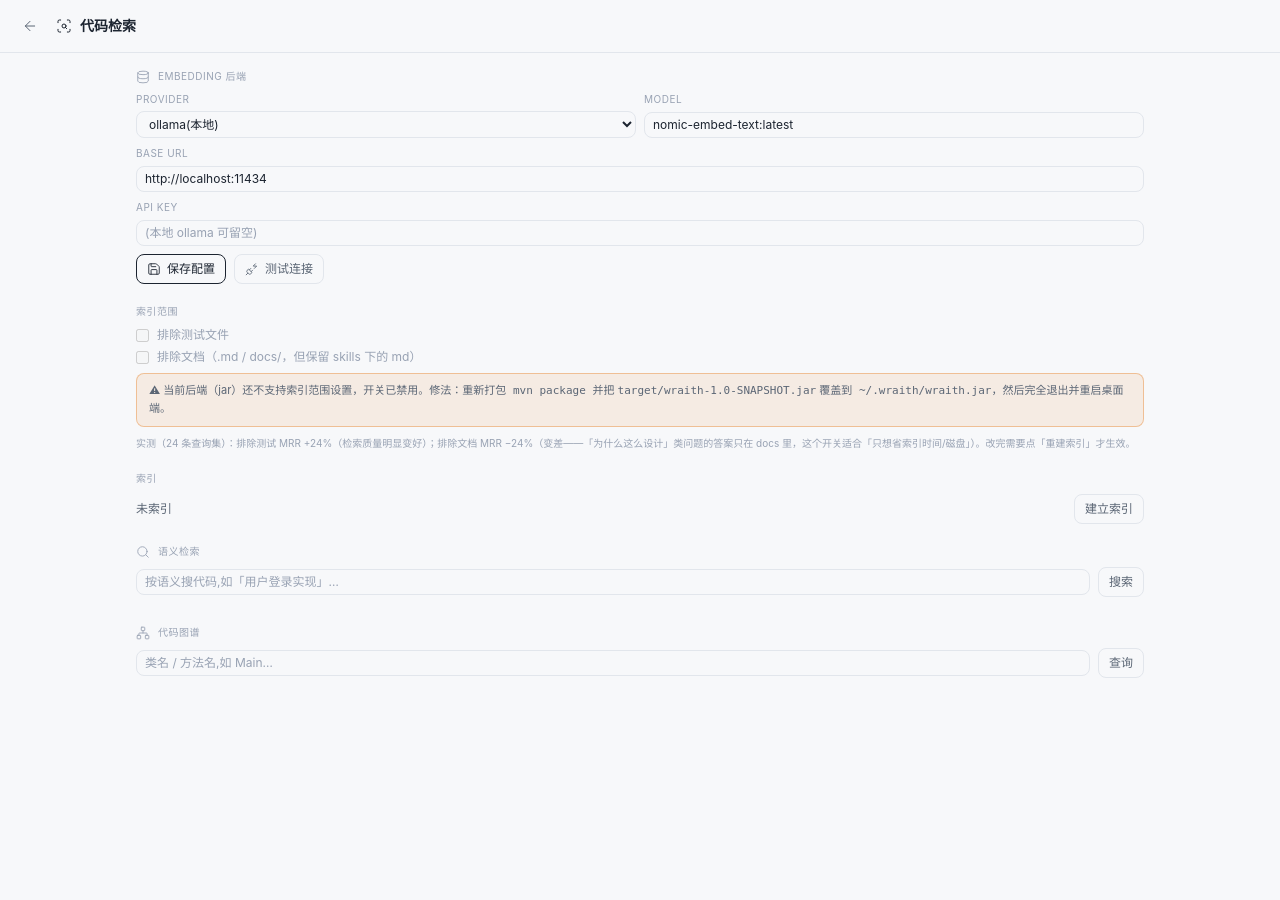
Scenario: RagPanel 测试连接 › 成功:摊出维度与耗时
Click the button "测试连接" at {"x": 279, "y": 269}, box [234,254,324,284]
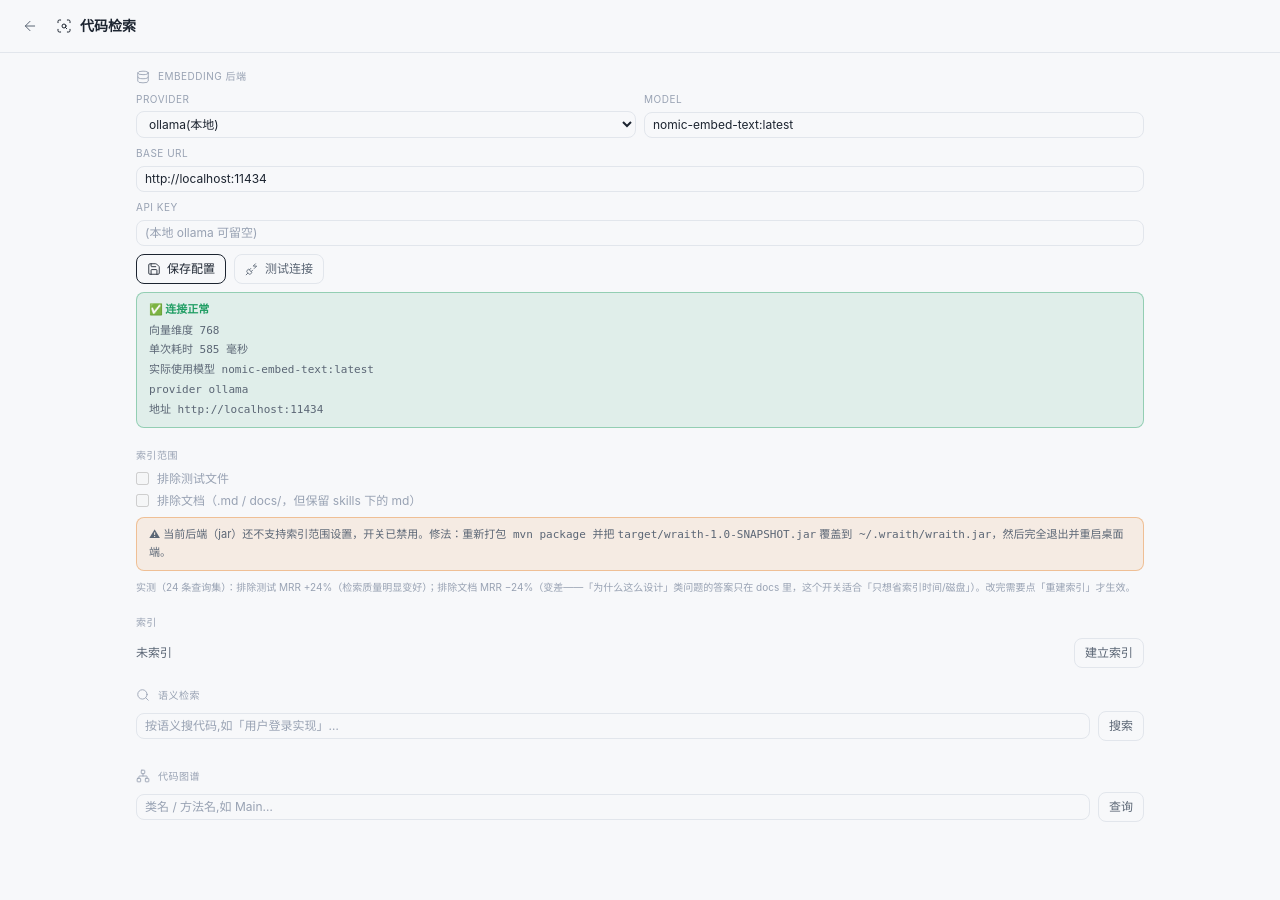
Result: the element with test id "rag-embedding-test-result" shows "768" at [149,324,220,336]
Result: the element with test id "rag-embedding-test-result" shows "nomic-embed-text:latest" at [149,363,374,376]
